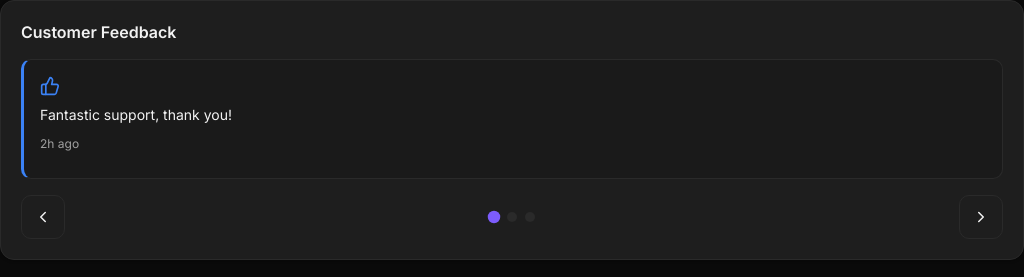
Test: CustomerFeedbackCarousel › advances with the Next button
Click the button named "Next feedback".
click(981, 217)  # box 959,195 -> 1003,239
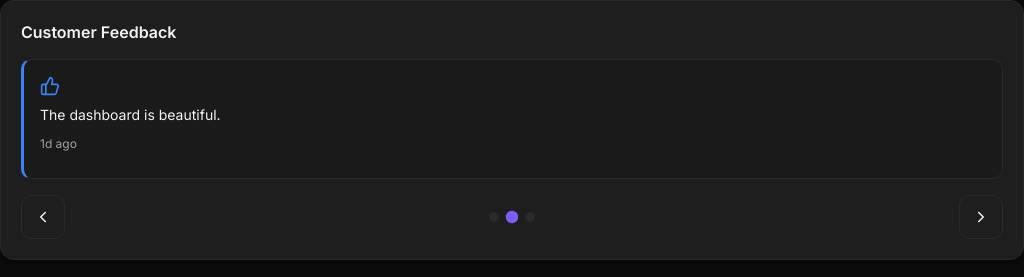
Expected: the text "The dashboard is beautiful." is shown, 40,106 -> 221,123
